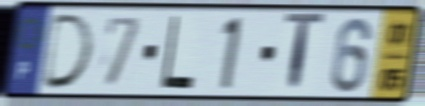1: (217, 14, 245, 92)
6: (329, 14, 374, 95)
7: (102, 15, 144, 90)
D: (38, 11, 97, 92)
L: (158, 13, 196, 92)
T: (281, 10, 328, 98)
